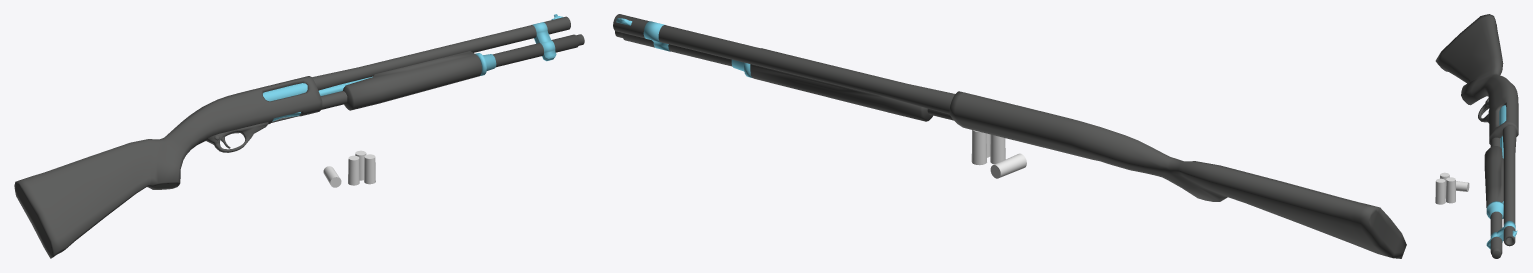
The picture shows the model from 3 angles, left to right: view 1: azimuth 30°, elevation 25°; view 2: azimuth 150°, elevation 25°; view 3: azimuth 270°, elevation 25°; orthographic projection. The views are drawn at different scales.
Parts seen in each view (by area): view 1: 8_low, low_game_paint005.001, low_game_paint; view 2: 8_low, low_game_paint001, low_game_paint005; view 3: 8_low, low_game_paint005.001, low_game_paint005, low_game_paint001, low_game_paint.
Part boxes in pixels (x1,y1,x2,y2): 8_low: (14, 14, 584, 258); low_game_paint005.001: (364, 154, 375, 184); low_game_paint: (348, 155, 359, 185); 8_low: (613, 14, 1406, 258); low_game_paint001: (990, 153, 1026, 178); low_game_paint005: (971, 130, 986, 165); 8_low: (1435, 14, 1518, 258); low_game_paint005.001: (1435, 178, 1445, 204); low_game_paint005: (1446, 177, 1455, 203); low_game_paint001: (1456, 181, 1469, 191); low_game_paint: (1440, 172, 1449, 198).
Size of the model in its own units: 996 by 137 by 145.
